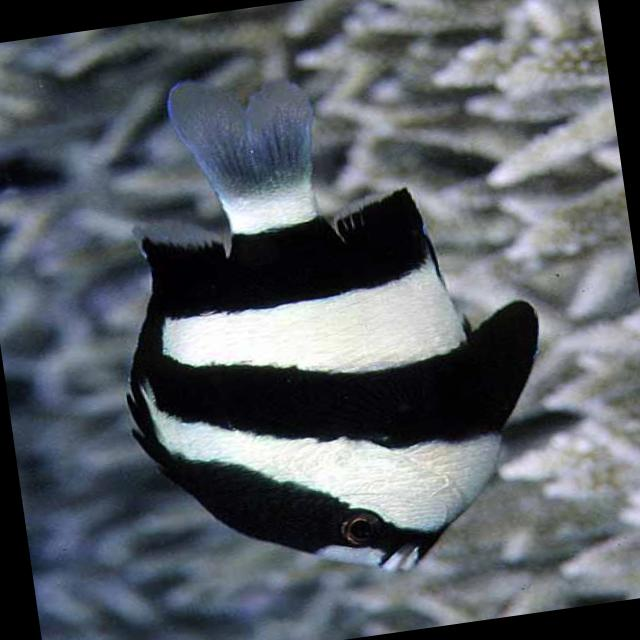ThreeStripedDamselfish: (127, 74, 542, 570)
